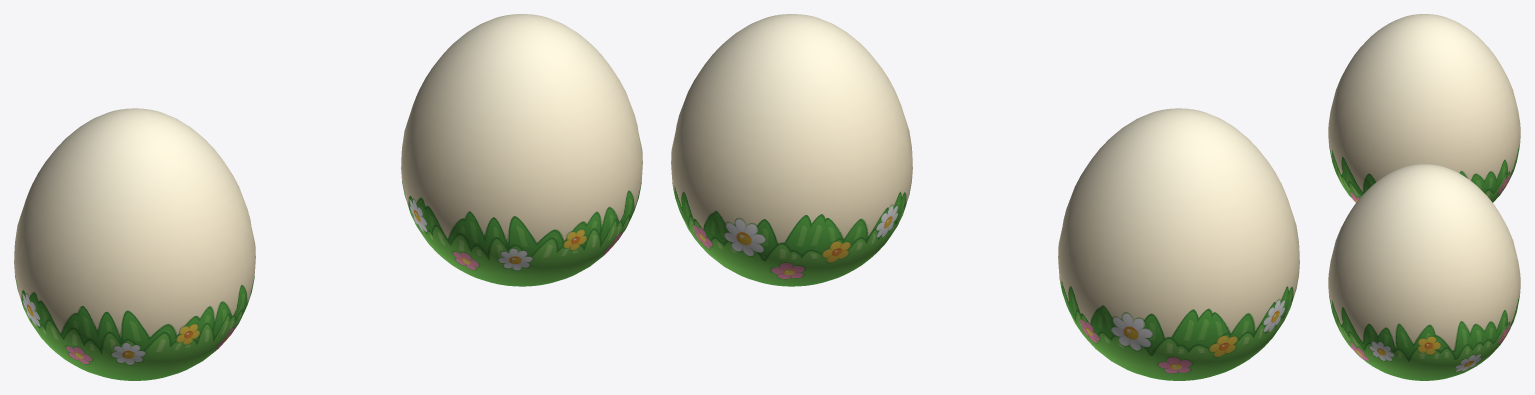
Rendered from OeufPrairie.glb.
3 views of the same model, side by side, from view 1: azimuth 30°, elevation 25°; view 2: azimuth 150°, elevation 25°; view 3: azimuth 270°, elevation 25° (orthographic). The views are drawn at different scales.
Parts seen in each view (by area): view 1: Egg, ShellTop, ShellBottom; view 2: Egg, ShellTop, ShellBottom; view 3: Egg, ShellTop, ShellBottom.
Part boxes in pixels (box(x1,y1,x2,y2)): Egg: box(14, 108, 255, 380); ShellTop: box(405, 14, 639, 185); ShellBottom: box(401, 116, 642, 286); Egg: box(1058, 108, 1299, 380); ShellTop: box(674, 14, 908, 185); ShellBottom: box(671, 116, 912, 286); Egg: box(1328, 14, 1520, 202); ShellTop: box(1331, 164, 1517, 300); ShellBottom: box(1328, 253, 1520, 380).
Size of the model in its own units: 12.33 by 5 by 4.33.
1 material, 1 textured.
